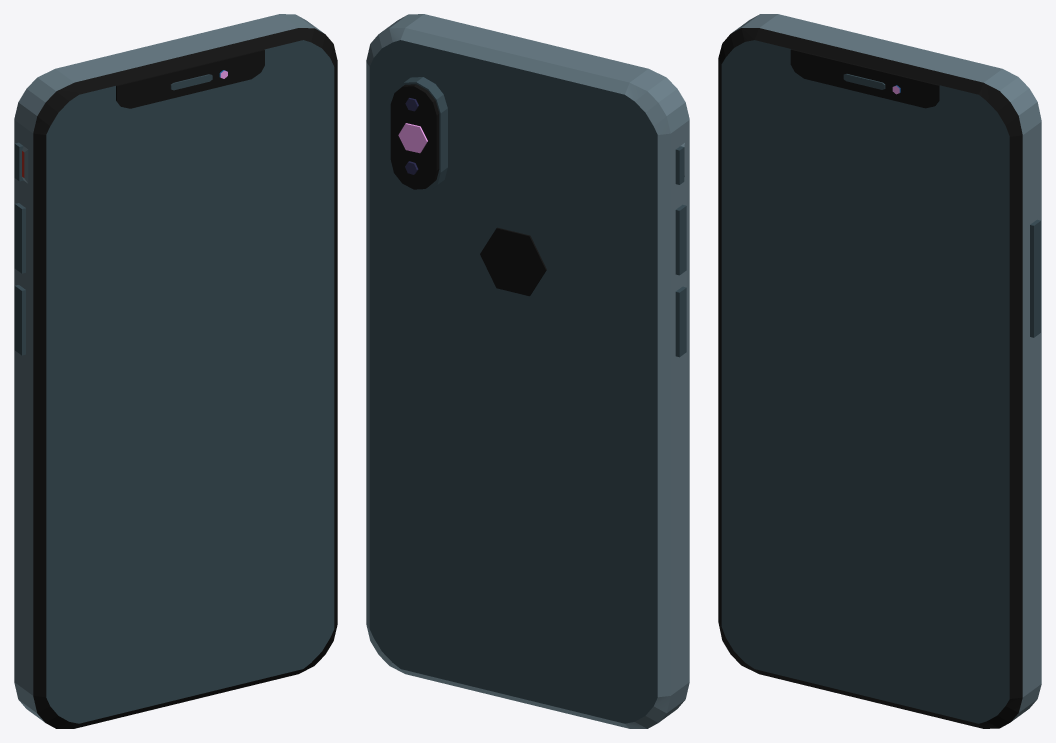
Rendered from phone.glb.
3 views of the same model, side by side, from view 1: azimuth 30°, elevation 25°; view 2: azimuth 150°, elevation 25°; view 3: azimuth 330°, elevation 25° (orthographic).
Parts seen in each view (by area): view 1: node_MeshObject-280801280-PolyPaper21; view 2: node_MeshObject-280801280-PolyPaper21, node_MeshObject2016263168-PolyGem25; view 3: node_MeshObject-280801280-PolyPaper21.
Part boxes in pixels (x1=…): node_MeshObject-280801280-PolyPaper21: x1=14, y1=14, x2=337, y2=728; node_MeshObject-280801280-PolyPaper21: x1=366, y1=14, x2=689, y2=728; node_MeshObject2016263168-PolyGem25: x1=398, y1=123, x2=427, y2=153; node_MeshObject-280801280-PolyPaper21: x1=718, y1=14, x2=1041, y2=728.
Bounding box in the file's own units: 0.7601 × 1.5 × 0.176.
